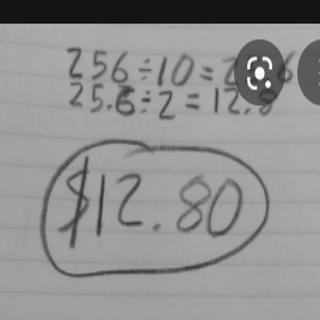.: (147, 216, 165, 236)
0: (206, 177, 245, 236), (172, 52, 194, 85)
1: (87, 172, 112, 243), (156, 54, 169, 87), (210, 81, 219, 115)
2: (63, 73, 86, 111), (156, 86, 180, 121), (65, 46, 86, 79), (225, 87, 243, 118)
5: (113, 172, 145, 228), (87, 80, 109, 118), (87, 49, 109, 83)
6: (112, 47, 135, 83), (118, 86, 139, 118)
8: (176, 172, 211, 236)
